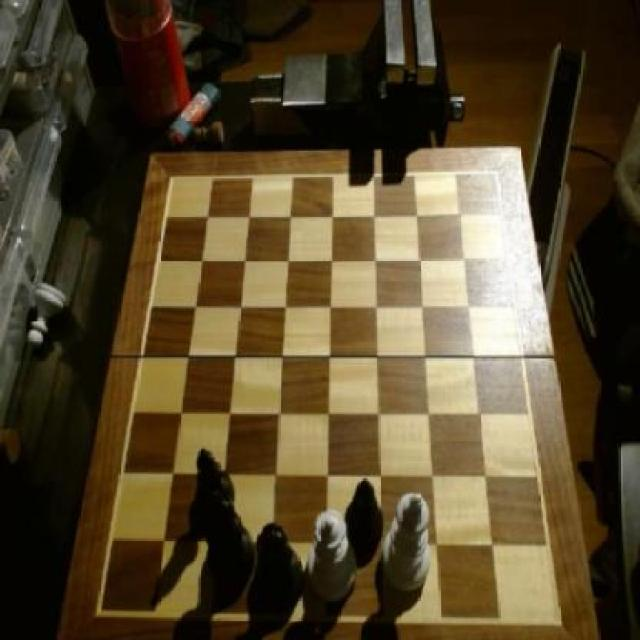bishop: (191, 445, 235, 526), (346, 478, 384, 560)
black-bishop: (206, 488, 257, 599)
black-pawn: (251, 522, 304, 618)
white-bishop: (382, 488, 433, 594)
white-pawn: (306, 506, 360, 608)
